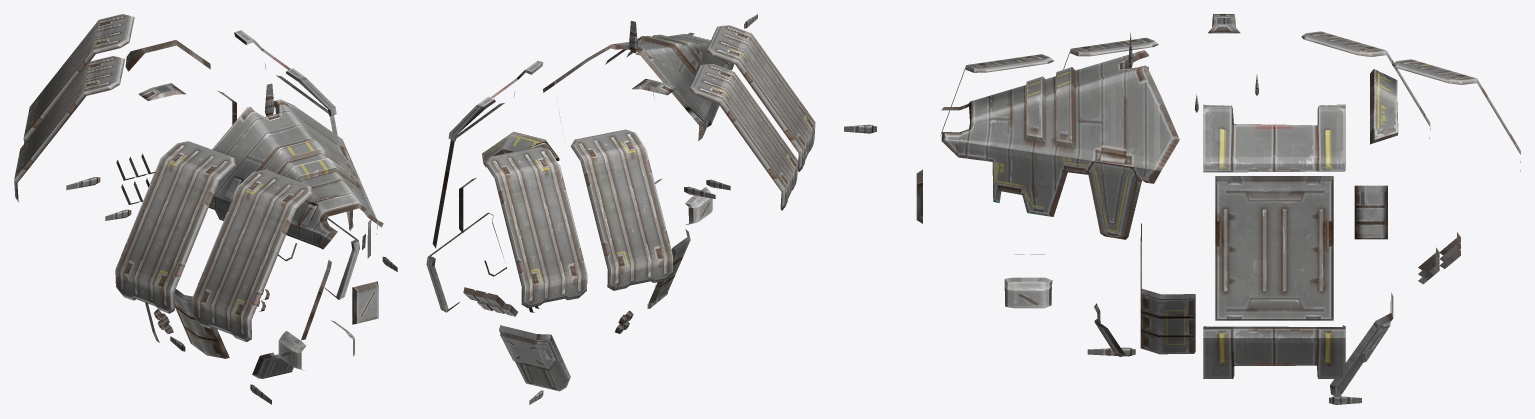
The model's file is p1_pf_defe_01_t1.glb.
3 views of the same model, side by side, from view 1: azimuth 30°, elevation 25°; view 2: azimuth 150°, elevation 25°; view 3: azimuth 270°, elevation 25° (orthographic). The views are drawn at different scales.
Visible parts, largest first — view 1: p1_turret_platform_LOD0; view 2: p1_turret_platform_LOD0; view 3: p1_turret_platform_LOD0.
Part boxes in pixels (x1,y1,x2,y2): p1_turret_platform_LOD0: (14,14,397,404); p1_turret_platform_LOD0: (426,14,815,404); p1_turret_platform_LOD0: (844,14,1520,404).
Size of what is drawn, in the model's own units: 1.92 by 2.19 by 3.63.
1 material, 1 textured.
